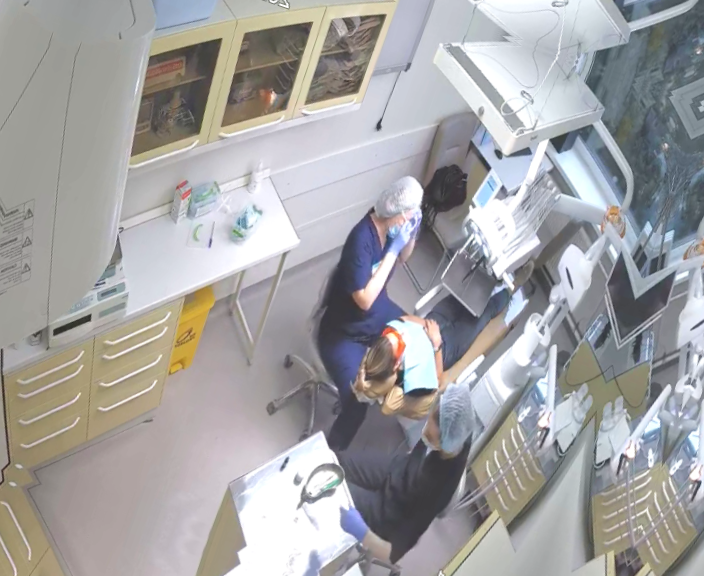Patient: (345, 237, 538, 448)
